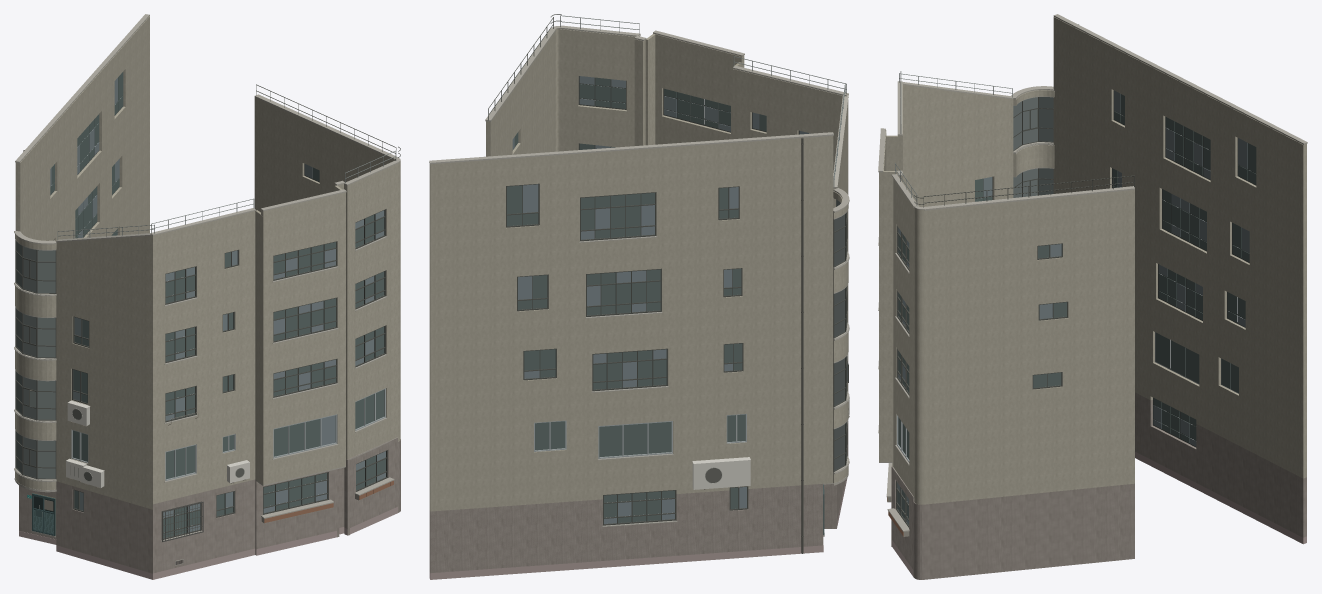
Rendered from lod-source.glb.
The picture shows the model from 3 angles, left to right: view 1: azimuth 30°, elevation 25°; view 2: azimuth 150°, elevation 25°; view 3: azimuth 270°, elevation 25°; orthographic projection. The views are drawn at different scales.
Parts seen in each view (by area): view 1: 湖南路280弄2号五层住宅临街窗墙与弧窗; view 2: 湖南路280弄2号五层住宅临街窗墙与弧窗; view 3: 湖南路280弄2号五层住宅临街窗墙与弧窗.
Part boxes in pixels (bbox=[...]): 湖南路280弄2号五层住宅临街窗墙与弧窗: bbox=[14, 14, 400, 579]; 湖南路280弄2号五层住宅临街窗墙与弧窗: bbox=[429, 14, 849, 579]; 湖南路280弄2号五层住宅临街窗墙与弧窗: bbox=[878, 14, 1307, 579].
Size of the model in its own units: 17.63 by 19.72 by 19.16.
Materials: 30 (2 with a texture image).
